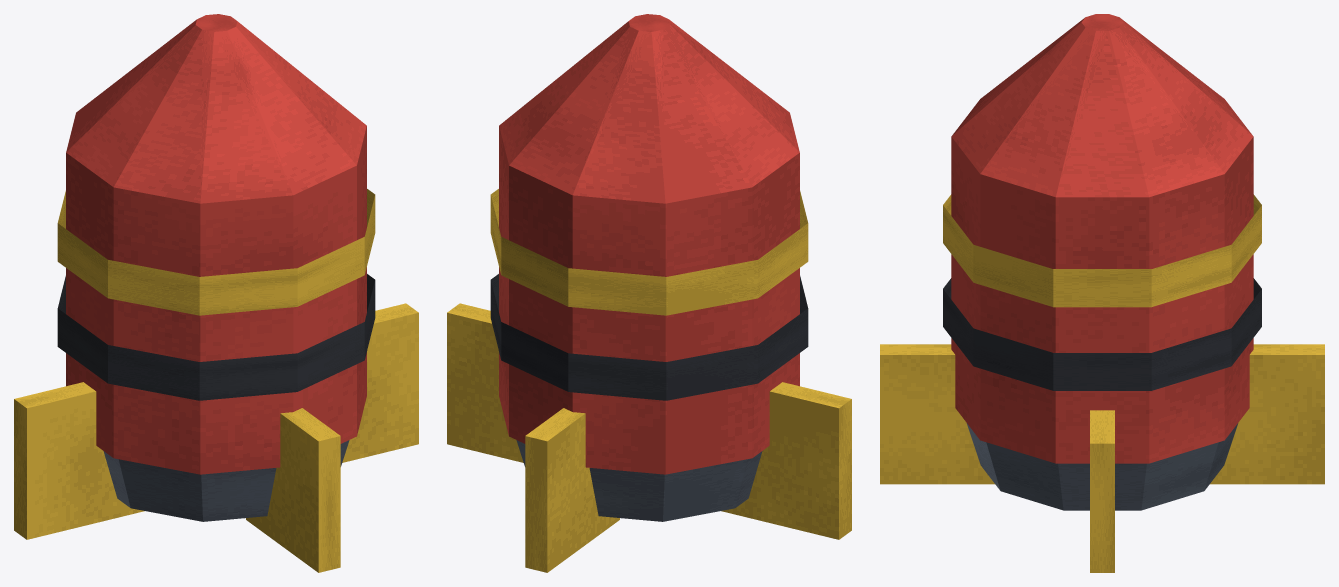
File: pickup_nuke.glb
3 renders of one model, left to right at view 1: azimuth 30°, elevation 25°; view 2: azimuth 150°, elevation 25°; view 3: azimuth 270°, elevation 25°, orthographic.
Parts seen in each view (by area): view 1: pickup_nuke; view 2: pickup_nuke; view 3: pickup_nuke.
Part boxes in pixels (left/top/right/bottom): pickup_nuke: left=14, top=14, right=418, bottom=572; pickup_nuke: left=447, top=14, right=851, bottom=572; pickup_nuke: left=880, top=14, right=1324, bottom=572.
Size of the model in its own units: 1.06 by 1.2 by 1.06.
Materials: 1 (1 with a texture image).
